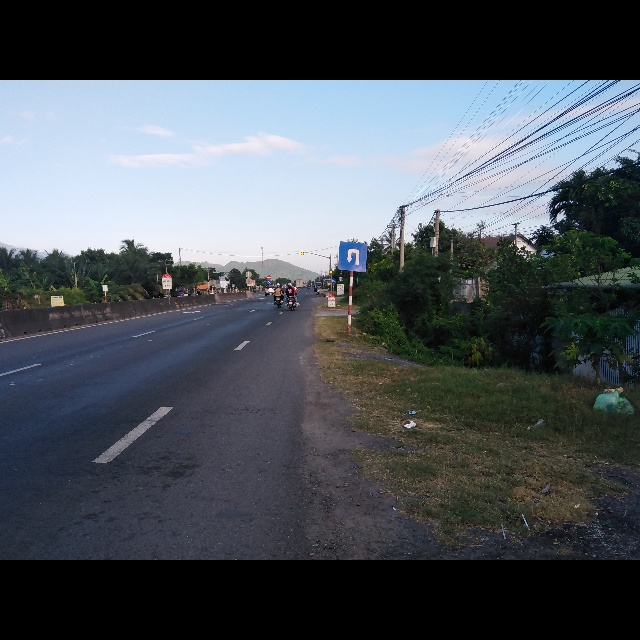Khu vực quay đầu xe: (339, 240, 367, 272)
